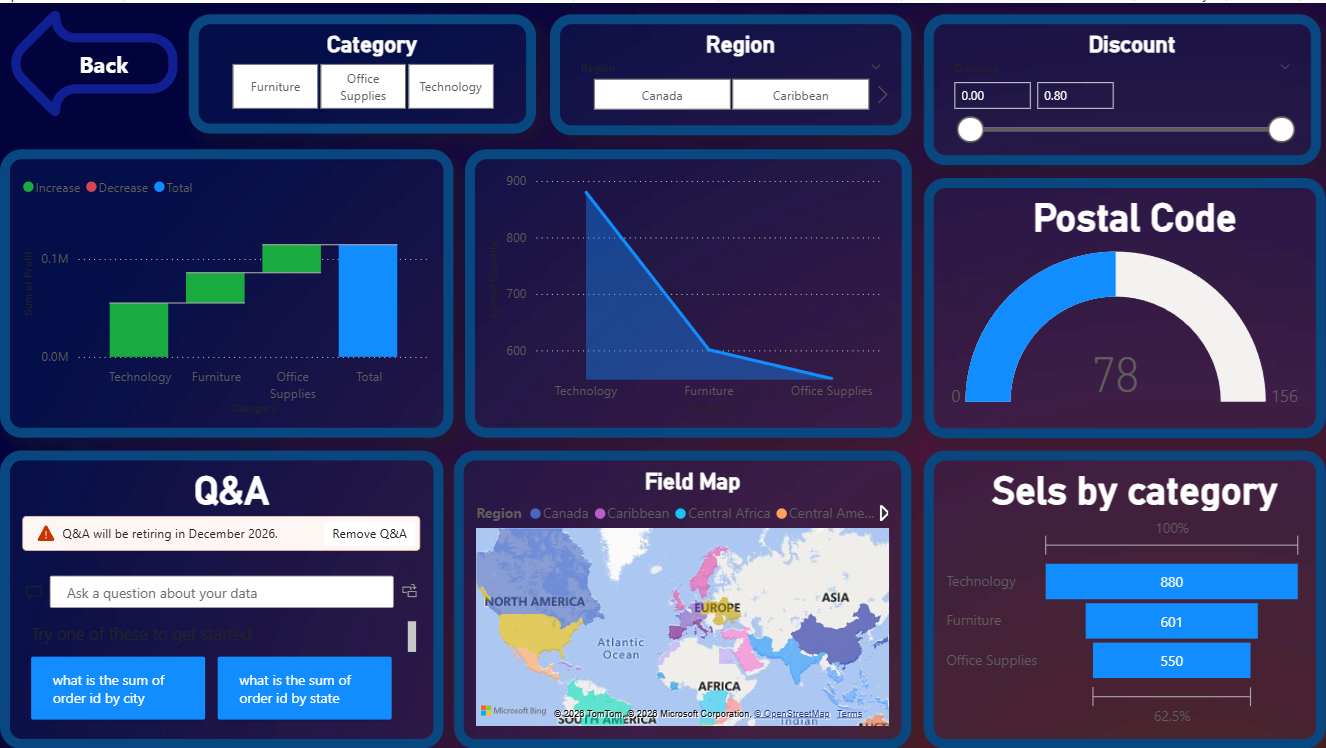

This screenshot's page, from the dashboard's own definition file:
{"tool":"powerbi","page":{"name":"Page 2","canvas":[1280,720],"ordinal":1},"visuals":[{"type":"shape","box":[0,0,171.5,116.6],"z":0},{"type":"filledMap","title":"Field Map","fields":{"Category":["Global_Superstore(CSV).Country"],"Series":["Global_Superstore(CSV).Region"]},"box":[437.7,432.2,441.9,288.2],"z":1000},{"type":"qnaVisual","title":"Q&A","box":[0,432.2,428.1,288.2],"z":2000},{"type":"slicer","title":"Discount","fields":{"Values":["Global_Superstore(CSV).Discount"]},"box":[891.9,11,382.8,145.5],"z":3000},{"type":"slicer","title":"Region","fields":{"Values":["Global_Superstore(CSV).Region"]},"box":[531,11,348.5,116.6],"z":4000},{"type":"slicer","title":"Category","fields":{"Values":["Global_Superstore(CSV).Category"]},"box":[182.5,11,334.8,115.3],"z":5000},{"type":"funnel","title":"Sels by category","fields":{"Y":["Sum(Global_Superstore(CSV).Quantity)"],"Category":["Global_Superstore(CSV).Category"]},"box":[891.9,432.2,388.3,288.2],"z":6000},{"type":"gauge","title":"Postal  Code","fields":{"Y":["CountNonNull(Global_Superstore(CSV).Postal Code)"]},"box":[891.9,168.8,388.3,251.1],"z":7000},{"type":"waterfallChart","fields":{"Category":["Global_Superstore(CSV).Category"],"Y":["Sum(Global_Superstore(CSV).Profit)"]},"box":[0,141.3,437.7,278.6],"z":8000},{"type":"stackedAreaChart","fields":{"Category":["Global_Superstore(CSV).Category"],"Y":["Sum(Global_Superstore(CSV).Quantity)"]},"box":[448.7,141.3,430.9,278.6],"z":9000}]}

Visuals, with their boxes in screenshot pixels (x1, y1, x2, y2), scaled from the page's 1280x720 canvas onto the 1326x748 screenshot:
shape: (x1=0, y1=0, x2=178, y2=121)
"Field Map" filledMap: (x1=453, y1=449, x2=911, y2=747)
"Q&A" qnaVisual: (x1=0, y1=449, x2=443, y2=747)
"Discount" slicer: (x1=924, y1=11, x2=1321, y2=163)
"Region" slicer: (x1=550, y1=11, x2=911, y2=133)
"Category" slicer: (x1=189, y1=11, x2=536, y2=131)
"Sels by category" funnel: (x1=924, y1=449, x2=1325, y2=747)
"Postal  Code" gauge: (x1=924, y1=175, x2=1325, y2=436)
waterfallChart - Global_Superstore(CSV).Category x Sum(Global_Superstore(CSV).Profit): (x1=0, y1=147, x2=453, y2=436)
stackedAreaChart - Global_Superstore(CSV).Category x Sum(Global_Superstore(CSV).Quantity): (x1=465, y1=147, x2=911, y2=436)
